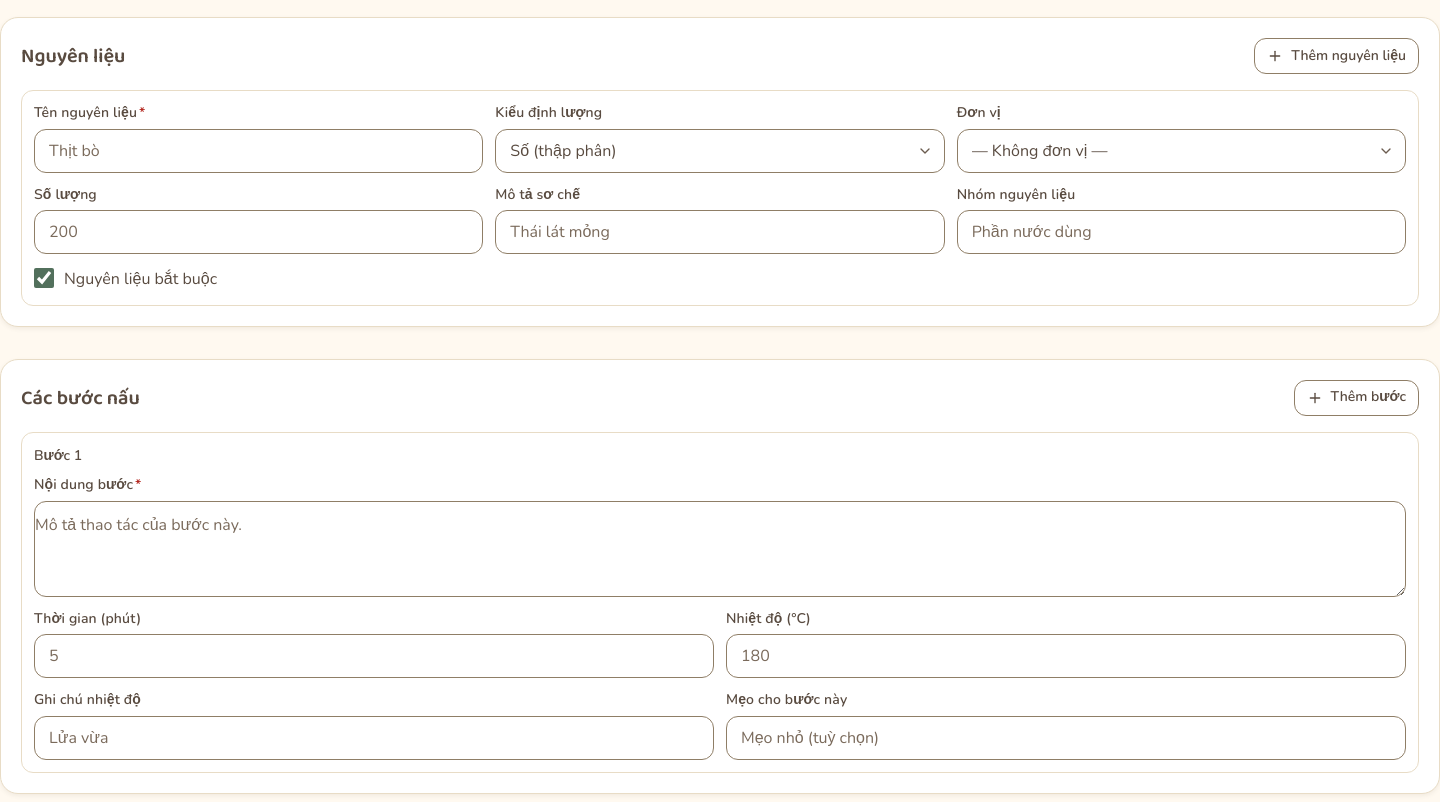
it: P07 — RecipeForm (create) › thêm dòng bước nấu
The width and height of the screenshot is (1440, 802).
(page scrolled)
Check: the number of text boxes labelled "Nội dung bước*" is 1, box [34,501,1406,597]
Click the button "Thêm bước".
click(1356, 398)  # box [1294,380,1419,416]
(page scrolled)
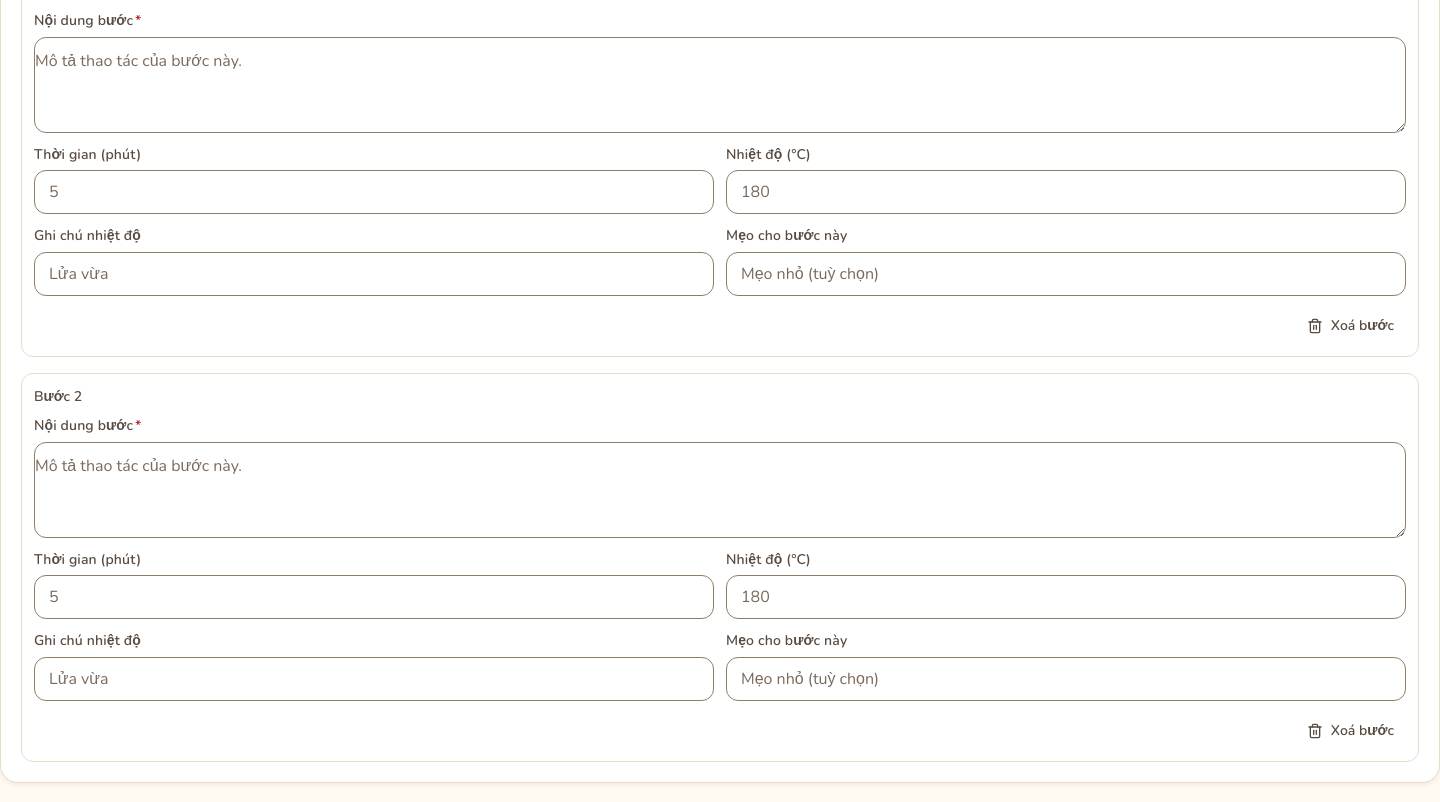
Check: the number of text boxes labelled "Nội dung bước*" is 2, box [34,37,1406,133]; [34,442,1406,538]
Check: the text "Bước 2" is shown, box [34,387,82,406]
